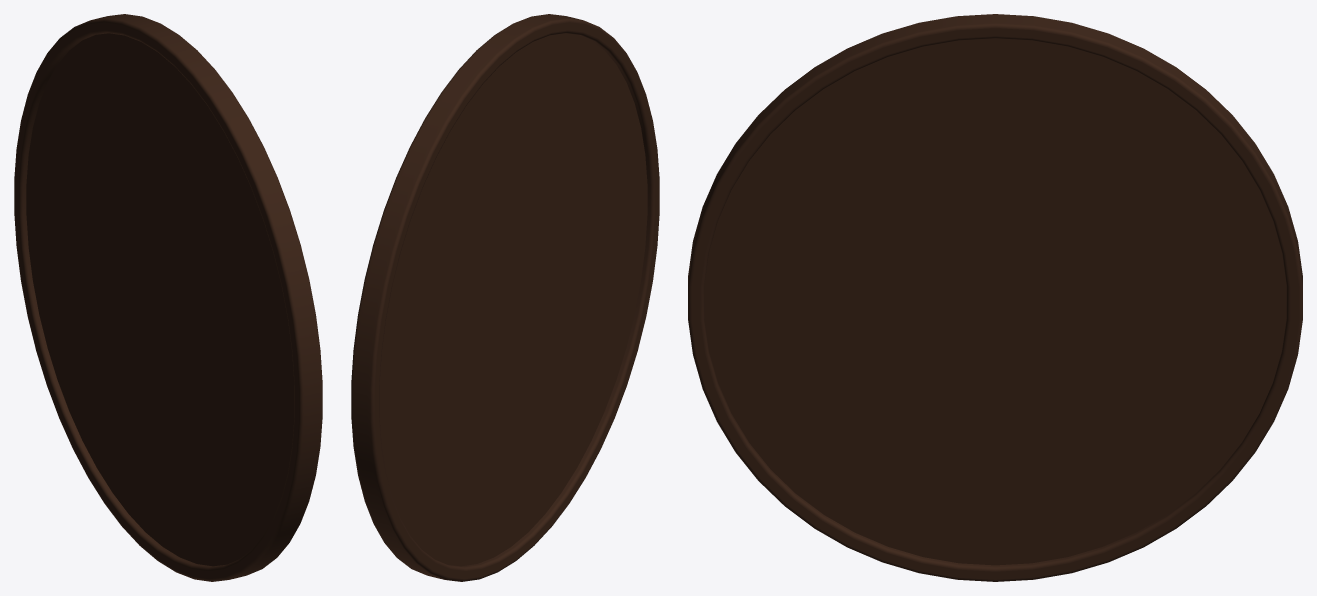
The model's file is Coin.fbx.
The picture shows the model from 3 angles, left to right: view 1: azimuth 30°, elevation 25°; view 2: azimuth 150°, elevation 25°; view 3: azimuth 270°, elevation 25°; orthographic projection. The views are drawn at different scales.
Parts seen in each view (by area): view 1: pCylinder1; view 2: pCylinder1; view 3: pCylinder1.
Part boxes in pixels (<box>): pCylinder1: <box>14,14,322,581</box>; pCylinder1: <box>351,14,659,581</box>; pCylinder1: <box>688,14,1302,581</box>.
Size of the model in its own units: 0.3935 by 8.47 by 8.46.
